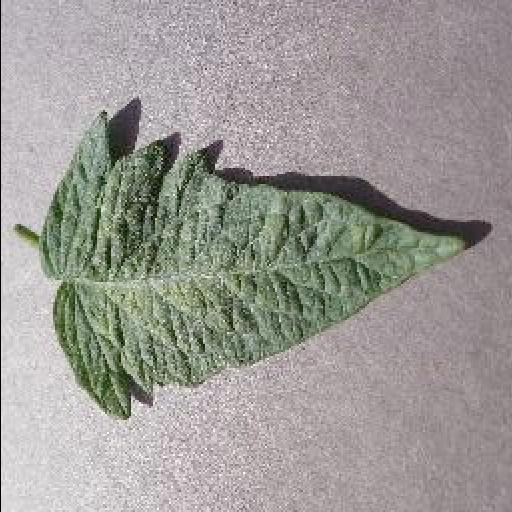disease_tomato: (36, 108, 470, 422)
